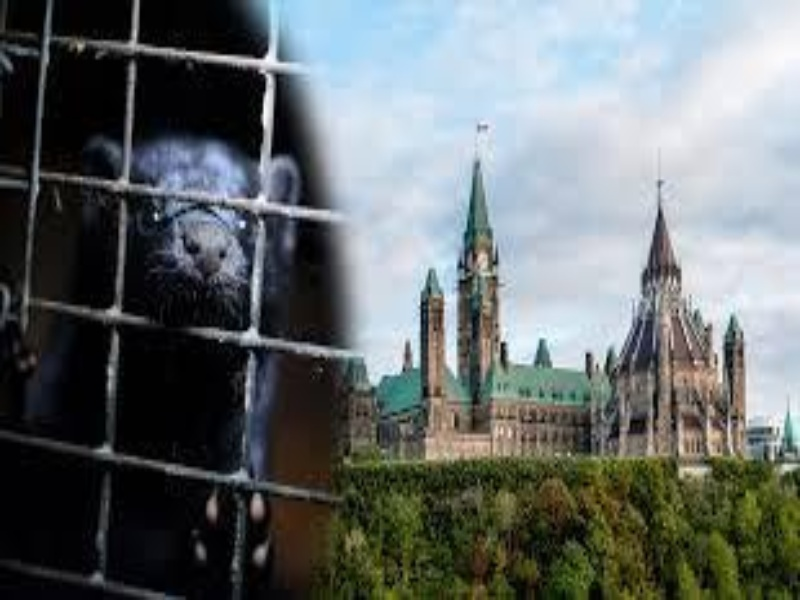minkish: (1, 131, 307, 600)
